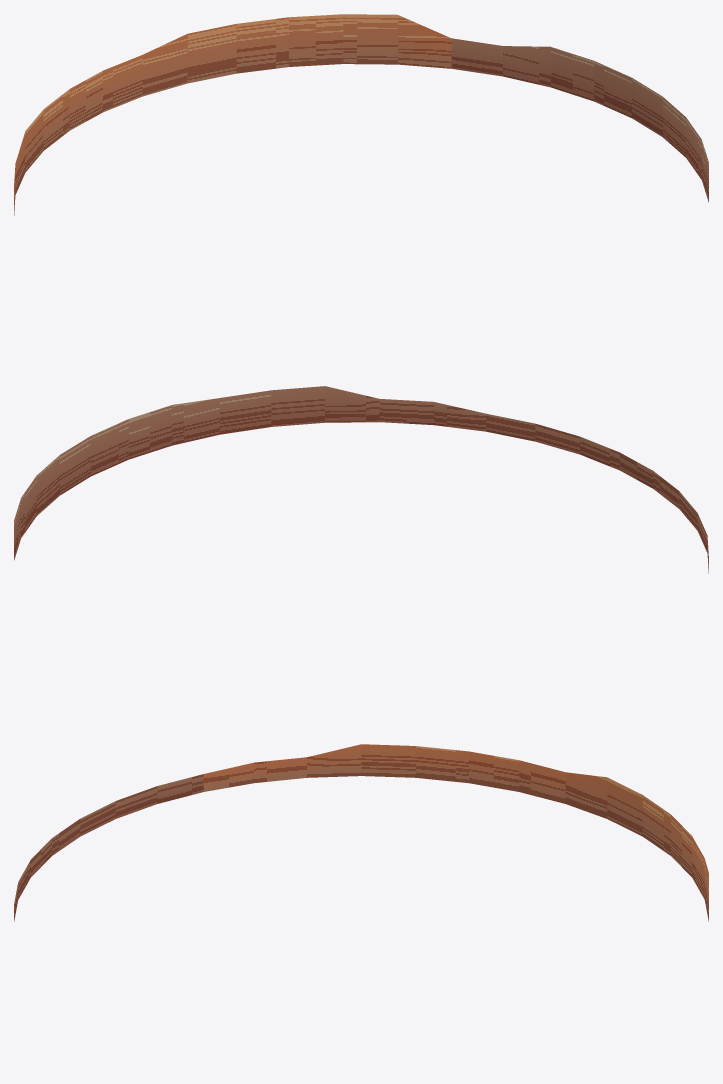
Rendered from wsky.mesas__near.glb.
3 renders of one model, top to bottom at view 1: azimuth 30°, elevation 25°; view 2: azimuth 150°, elevation 25°; view 3: azimuth 270°, elevation 25°, orthographic.
Parts seen in each view (by area): view 1: kit_shell_mesas; view 2: kit_shell_mesas; view 3: kit_shell_mesas.
Part boxes in pixels (bbox=[...]): kit_shell_mesas: bbox=[14, 14, 708, 215]; kit_shell_mesas: bbox=[14, 386, 708, 573]; kit_shell_mesas: bbox=[14, 744, 708, 921].
Size of the model in its own units: 180 by 14.21 by 180.
Materials: 1 (1 with a texture image).
